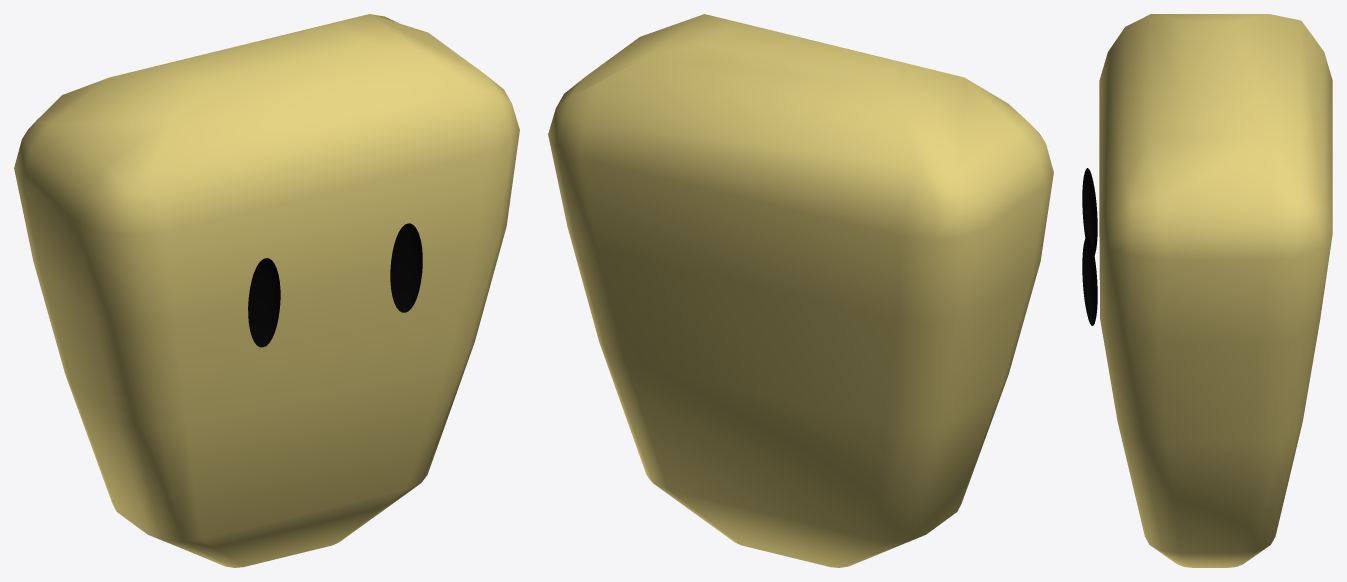
The model's file is goldcorn！.fbx.
3 views of the same model, side by side, from view 1: azimuth 30°, elevation 25°; view 2: azimuth 150°, elevation 25°; view 3: azimuth 270°, elevation 25° (orthographic). The views are drawn at different scales.
Parts seen in each view (by area): view 1: 立方体, 球体.002; view 2: 立方体; view 3: 立方体, 球体.002.
Part boxes in pixels (<box>): 立方体: <box>14,14,519,567</box>; 球体.002: <box>248,223,422,347</box>; 立方体: <box>548,14,1053,567</box>; 立方体: <box>1099,14,1332,567</box>; 球体.002: <box>1082,168,1097,325</box>.
Size of the model in its own units: 95.61 by 103 by 49.01.
